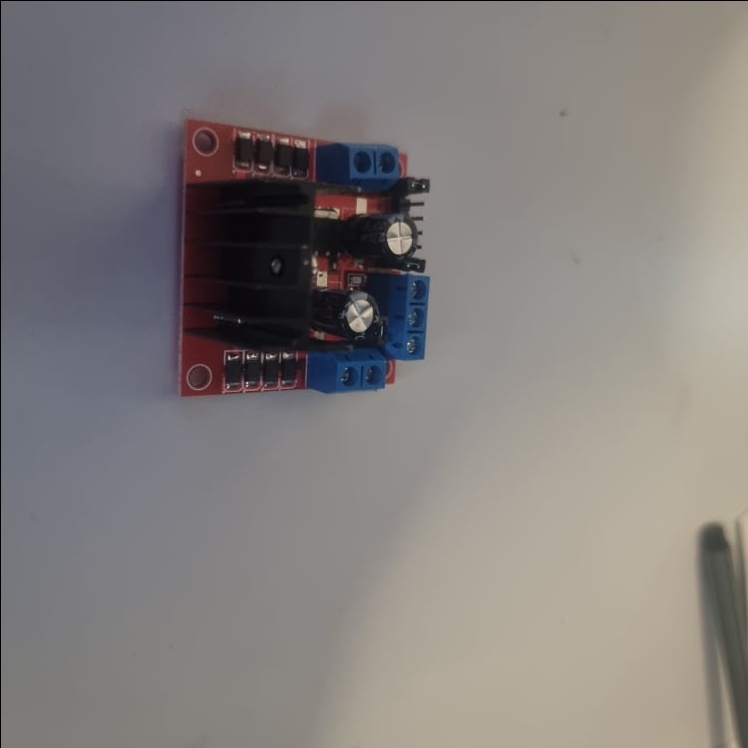MOTOR: (173, 114, 436, 394)
